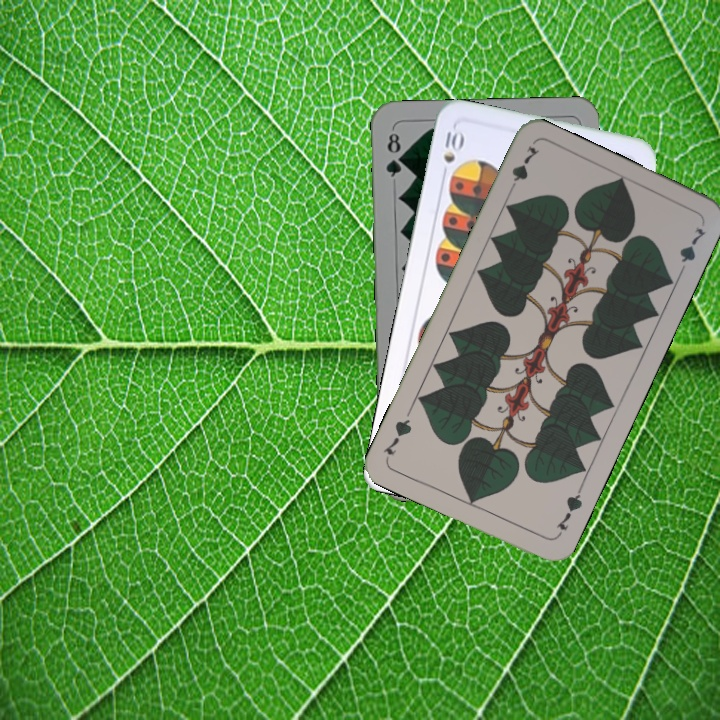G7: (504, 141, 541, 197), (552, 483, 586, 539)
G8: (381, 129, 405, 180)
S10: (438, 125, 466, 182)
